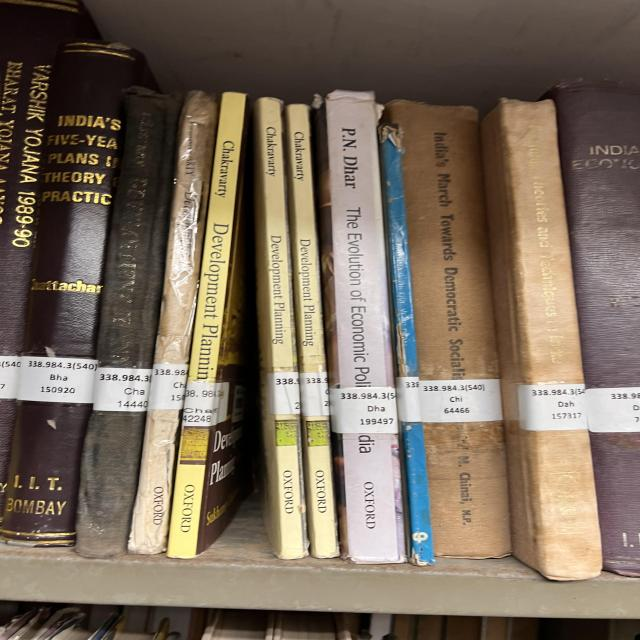Book: (2, 41, 145, 546), (382, 100, 512, 559), (482, 100, 602, 580), (77, 88, 180, 558), (128, 91, 218, 554), (318, 90, 405, 564), (167, 92, 247, 559), (378, 122, 435, 565), (285, 104, 340, 558), (255, 98, 308, 559)
Label: (17, 356, 98, 404), (418, 379, 503, 422), (518, 384, 588, 431), (330, 386, 398, 434), (93, 368, 152, 411), (182, 381, 230, 426), (148, 364, 188, 410), (267, 372, 300, 415), (300, 371, 330, 416), (395, 376, 422, 422)
